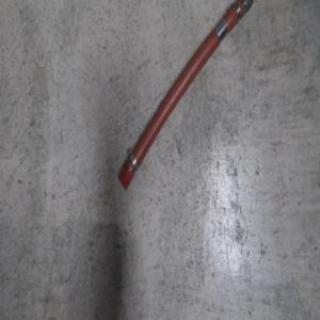Hosetrack_idkeyframe: (116, 0, 254, 191)
